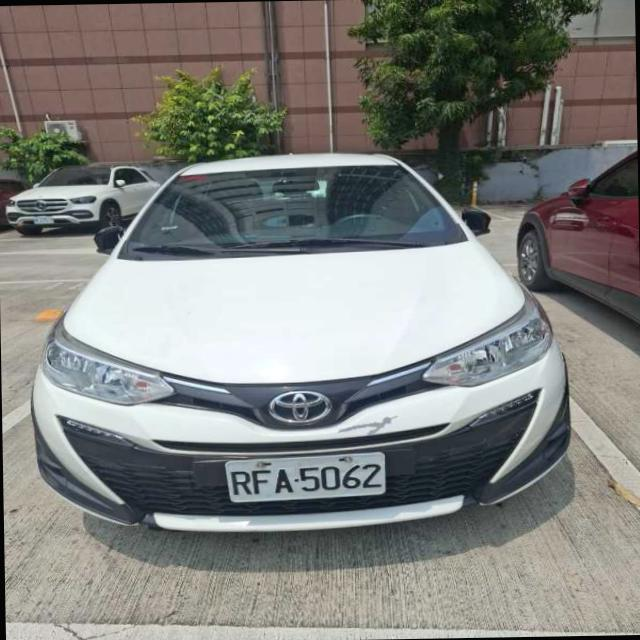license plate: (225, 452, 384, 502)
